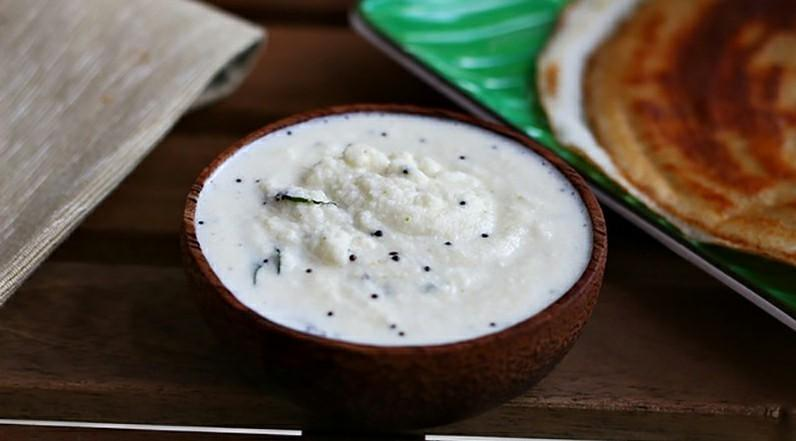CoconutChutney: (194, 114, 590, 345)
